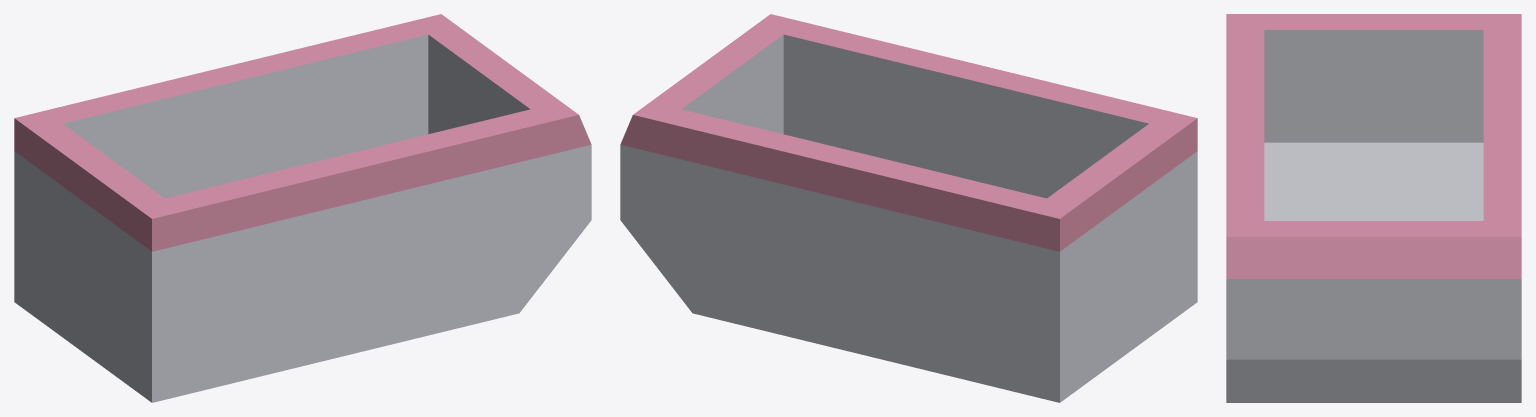
Rendered from KSI_crate_painted_open.glb.
The picture shows the model from 3 angles, left to right: view 1: azimuth 30°, elevation 25°; view 2: azimuth 150°, elevation 25°; view 3: azimuth 270°, elevation 25°; orthographic projection. The views are drawn at different scales.
Visible parts, largest first — view 1: tmpParent; view 2: tmpParent; view 3: tmpParent.
Boxes of the visible parts, <box> form: tmpParent: <box>14,14,591,402</box>; tmpParent: <box>620,14,1197,402</box>; tmpParent: <box>1226,14,1521,402</box>.
Bounding box in the file's own units: 0.7 × 0.28 × 0.38.
